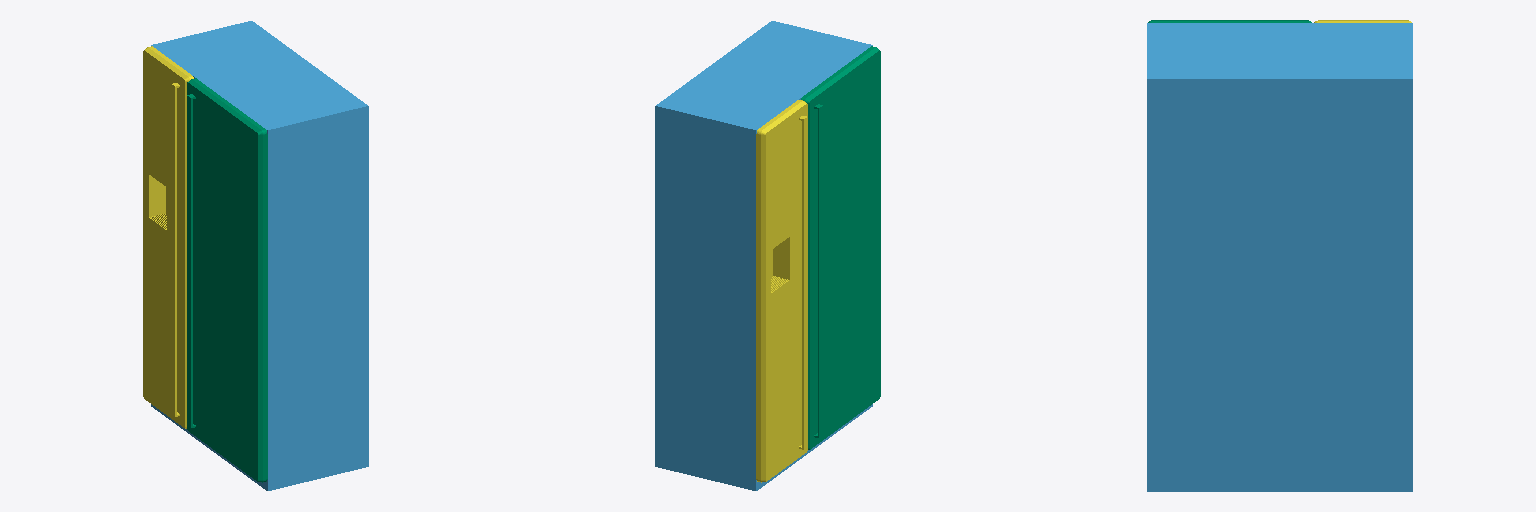
The robot description file, URDF, robot "partnet_4b2c920fb2619726578d107c71db28ac":
<?xml version="1.0" ?>
<robot name="partnet_4b2c920fb2619726578d107c71db28ac">
	<link name="base"/>
	<link name="link_0">
		<visual name="frame-7">
			<origin xyz="0 0 0"/>
			<geometry>
				<mesh filename="textured_objs/new-1.obj"/>
			</geometry>
		</visual>
		<visual name="frame-7">
			<origin xyz="0 0 0"/>
			<geometry>
				<mesh filename="textured_objs/new-0.obj"/>
			</geometry>
		</visual>
		<collision>
			<origin xyz="0 0 0"/>
			<geometry>
				<mesh filename="textured_objs/new-1.obj"/>
			</geometry>
		</collision>
		<collision>
			<origin xyz="0 0 0"/>
			<geometry>
				<mesh filename="textured_objs/new-0.obj"/>
			</geometry>
		</collision>
	</link>
	<joint name="joint_0" type="fixed">
		<origin rpy="1.570796326794897 0 -1.570796326794897" xyz="0 0 0"/>
		<child link="link_0"/>
		<parent link="base"/>
	</joint>
	<link name="link_1">
		<visual name="door_frame-10">
			<origin xyz="-0.49634208261697066 -0.8111190000000001 -0.21105892222321376"/>
			<geometry>
				<mesh filename="textured_objs/new-3.obj"/>
			</geometry>
		</visual>
		<visual name="handle-11">
			<origin xyz="-0.49634208261697066 -0.8111190000000001 -0.21105892222321376"/>
			<geometry>
				<mesh filename="textured_objs/new-2.obj"/>
			</geometry>
		</visual>
		<collision>
			<origin xyz="-0.49634208261697066 -0.8111190000000001 -0.21105892222321376"/>
			<geometry>
				<mesh filename="textured_objs/new-3.obj"/>
			</geometry>
		</collision>
		<collision>
			<origin xyz="-0.49634208261697066 -0.8111190000000001 -0.21105892222321376"/>
			<geometry>
				<mesh filename="textured_objs/new-2.obj"/>
			</geometry>
		</collision>
	</link>
	<joint name="joint_1" type="revolute">
		<origin xyz="0.49634208261697066 0.8111190000000001 0.21105892222321376"/>
		<axis xyz="0 1 0"/>
		<child link="link_1"/>
		<parent link="link_0"/>
		<limit lower="-0.0" upper="3.141592653589793"/>
	</joint>
	<link name="link_2">
		<visual name="control_panel-15">
			<origin xyz="0.44348677074091003 -0.8111190000000001 -0.19533683083987108"/>
			<geometry>
				<mesh filename="textured_objs/new-5.obj"/>
			</geometry>
		</visual>
		<visual name="door_frame-12">
			<origin xyz="0.44348677074091003 -0.8111190000000001 -0.19533683083987108"/>
			<geometry>
				<mesh filename="textured_objs/new-6.obj"/>
			</geometry>
		</visual>
		<visual name="handle-13">
			<origin xyz="0.44348677074091003 -0.8111190000000001 -0.19533683083987108"/>
			<geometry>
				<mesh filename="textured_objs/new-4.obj"/>
			</geometry>
		</visual>
		<collision>
			<origin xyz="0.44348677074091003 -0.8111190000000001 -0.19533683083987108"/>
			<geometry>
				<mesh filename="textured_objs/new-5.obj"/>
			</geometry>
		</collision>
		<collision>
			<origin xyz="0.44348677074091003 -0.8111190000000001 -0.19533683083987108"/>
			<geometry>
				<mesh filename="textured_objs/new-6.obj"/>
			</geometry>
		</collision>
		<collision>
			<origin xyz="0.44348677074091003 -0.8111190000000001 -0.19533683083987108"/>
			<geometry>
				<mesh filename="textured_objs/new-4.obj"/>
			</geometry>
		</collision>
	</link>
	<joint name="joint_2" type="revolute">
		<origin xyz="-0.44348677074091003 0.8111190000000001 0.19533683083987108"/>
		<axis xyz="0 -1 0"/>
		<child link="link_2"/>
		<parent link="link_0"/>
		<limit lower="0.0" upper="3.141592653589793"/>
	</joint>
</robot>

--- What the picture shows (computed from the rendered views, not written in the file) ---
Views: 3 orthographic renders of the robot side by side, from view 1: azimuth 30°, elevation 25°; view 2: azimuth 150°, elevation 25°; view 3: azimuth 270°, elevation 25°.
Robot: partnet_4b2c920fb2619726578d107c71db28ac — 4 links, 3 joints (2 revolute, 1 fixed); root link base; default pose: every joint at zero.
Visible links, largest first — view 1: link_0, link_1, link_2; view 2: link_0, link_1, link_2; view 3: link_0.
Link boxes in pixels (x1,y1,x2,y2): link_0: (151, 21, 368, 490); link_1: (187, 78, 267, 482); link_2: (143, 46, 193, 428); link_0: (655, 21, 872, 490); link_1: (801, 46, 880, 449); link_2: (756, 100, 807, 482); link_0: (1147, 23, 1412, 491).
Size in the robot's own frame: 0.5452 by 0.9622 by 1.64 metres.
Meshes: 7 distinct files referenced, 7 mesh visuals loaded (7 OBJ).
